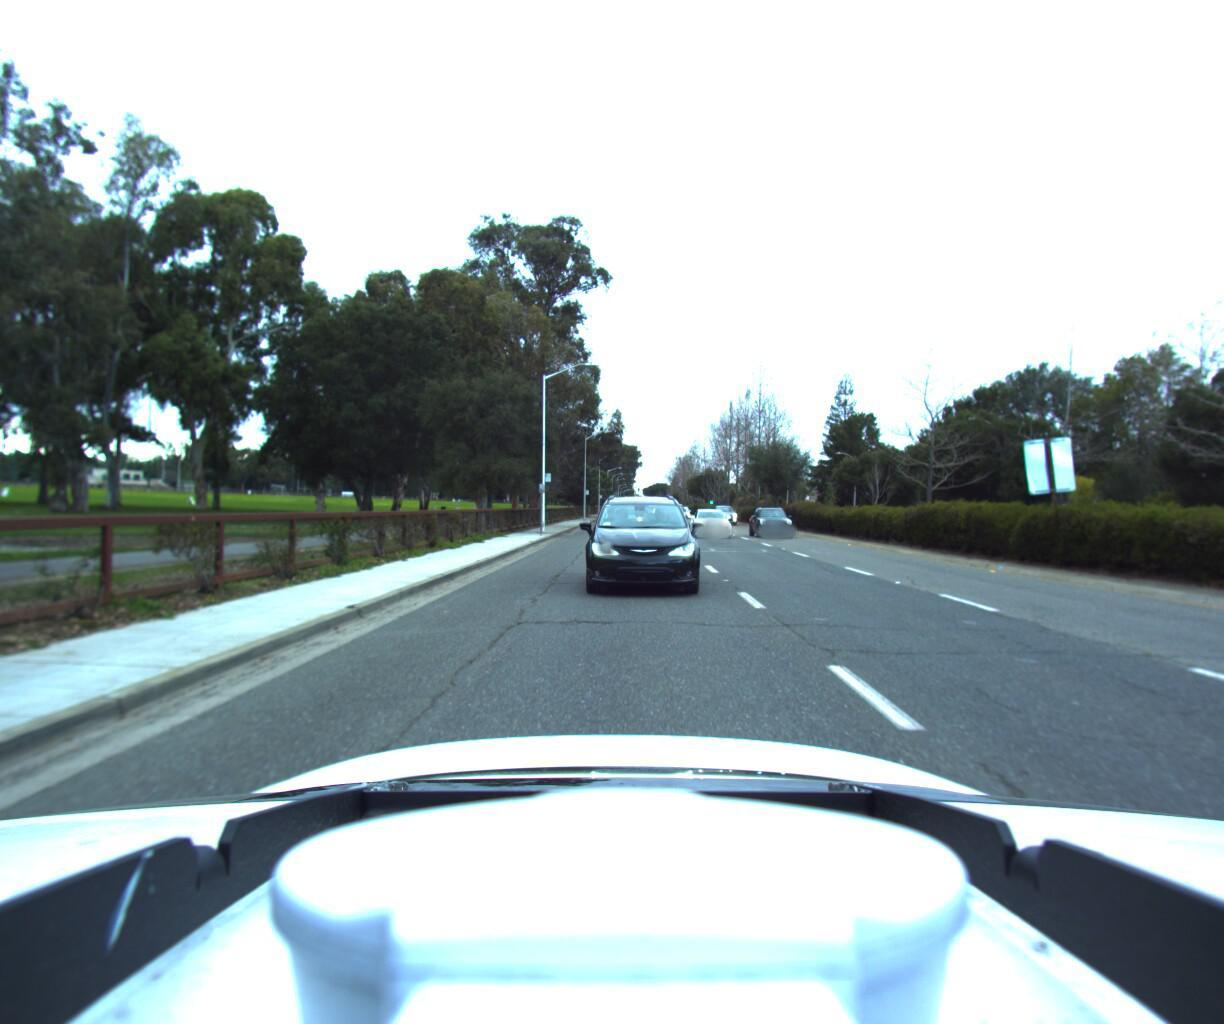car: (583, 492, 698, 598), (748, 504, 802, 537), (690, 505, 738, 539), (712, 502, 743, 523)
